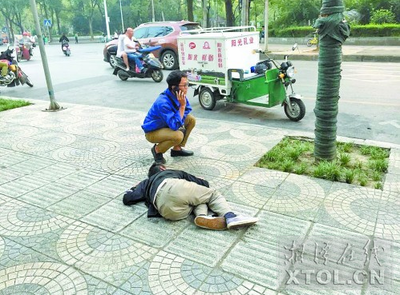fall: (111, 157, 263, 235)
